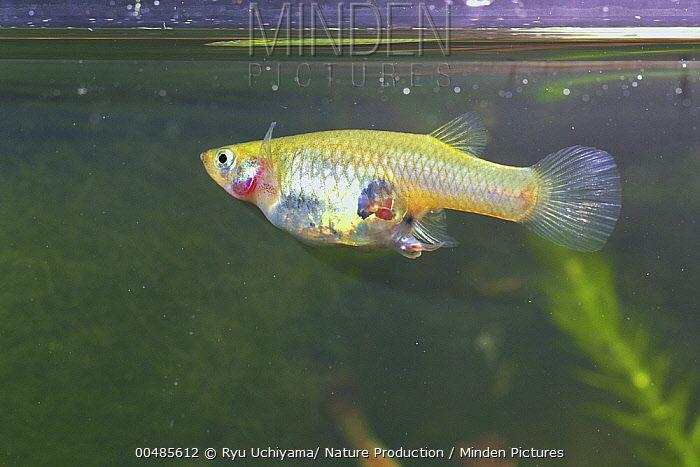Mosquito Fish: (204, 108, 623, 265)
